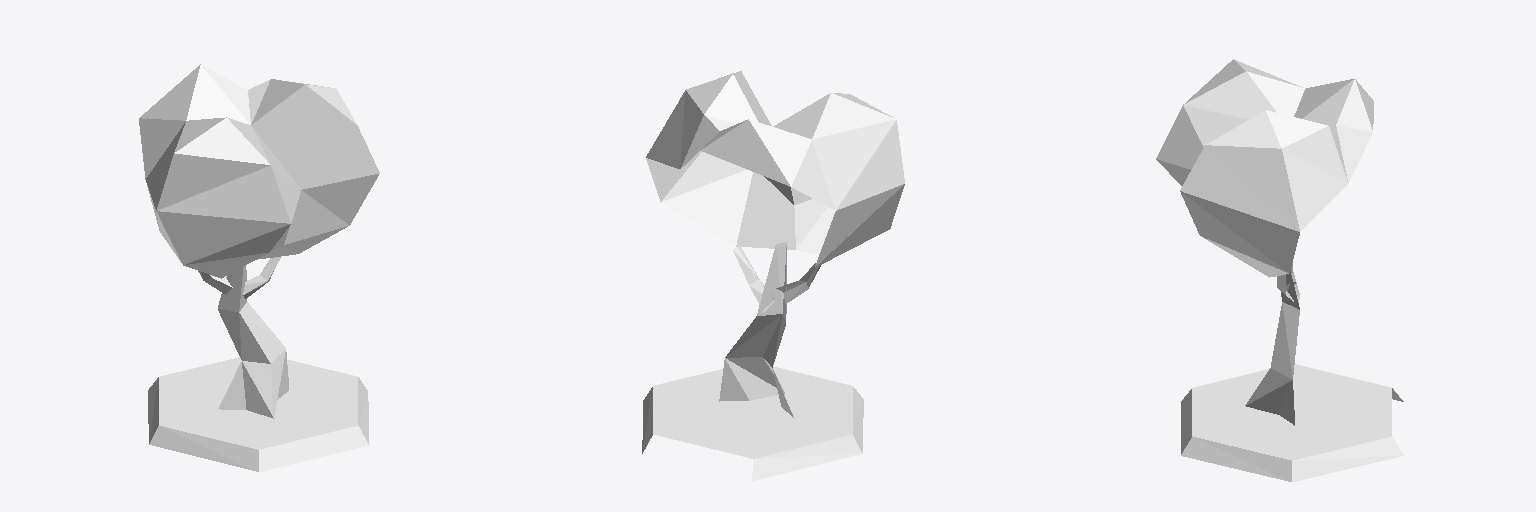
Rendered from Tree3.obj.
3 renders of one model, left to right at view 1: azimuth 30°, elevation 25°; view 2: azimuth 150°, elevation 25°; view 3: azimuth 270°, elevation 25°, orthographic.
Visible parts, largest first — view 1: tree; view 2: tree; view 3: tree.
Boxes of the visible parts, x1=… form: tree: x1=139, y1=64, x2=379, y2=471; tree: x1=642, y1=71, x2=904, y2=480; tree: x1=1156, y1=59, x2=1403, y2=481.
Size of the model in its own units: 3.67 by 5 by 3.33.